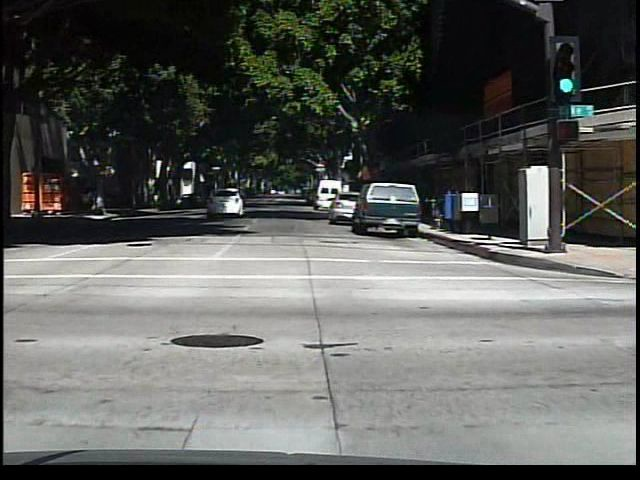person: (80, 181, 96, 217)
